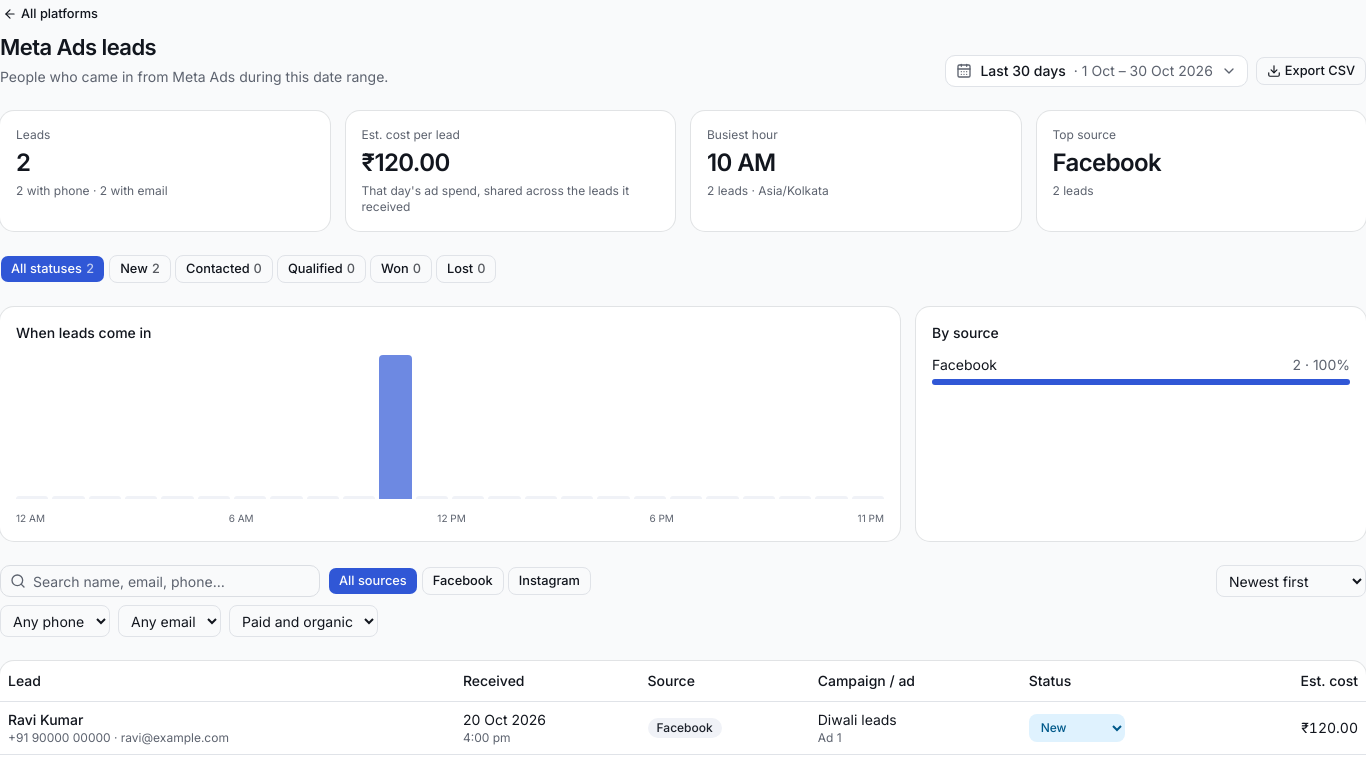
it: Platform leads › shows KPIs, the table and a lead's details
expect the heading "Meta Ads leads" is shown: met, box [0, 34, 156, 60]
expect the text "10 AM" is shown: met, box [707, 148, 776, 177]
Click the text "Ravi Kumar" at (46, 719), box [8, 711, 83, 728]
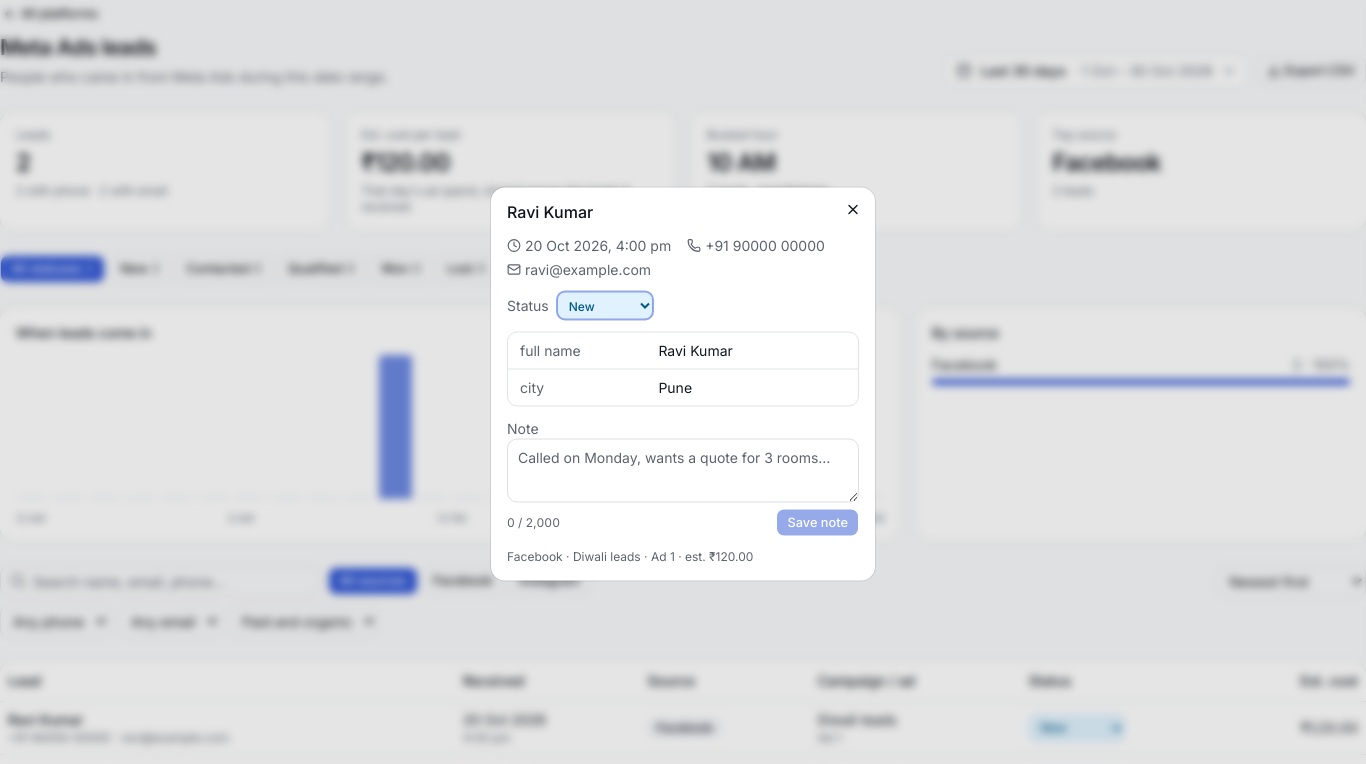
expect the text "full name" is shown: met, box [520, 342, 581, 358]
expect the text "Pune" is shown: met, box [658, 378, 692, 396]
expect the text "Facebook · Diwali leads · Ad 1 · est. ₹120.00" is shown: met, box [507, 548, 753, 564]
